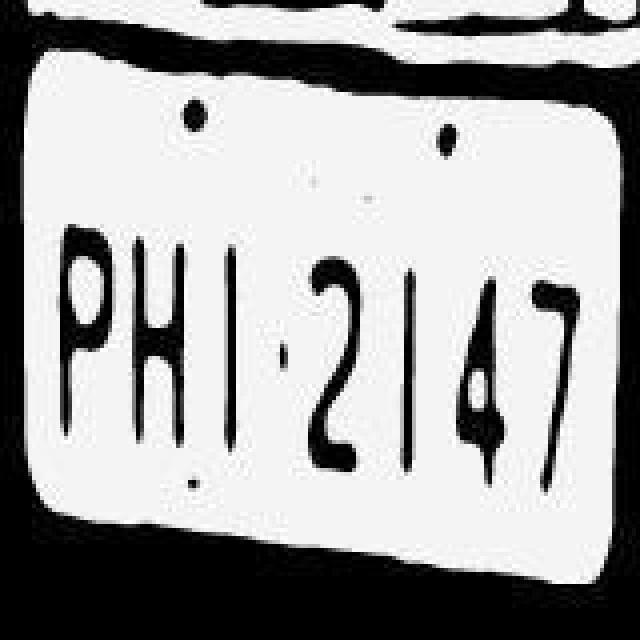1: (386, 242, 430, 494), (208, 238, 256, 466)
2: (294, 236, 378, 492)
4: (448, 260, 512, 508)
7: (516, 272, 588, 520)
H: (124, 238, 196, 466)
P: (44, 222, 116, 466)
